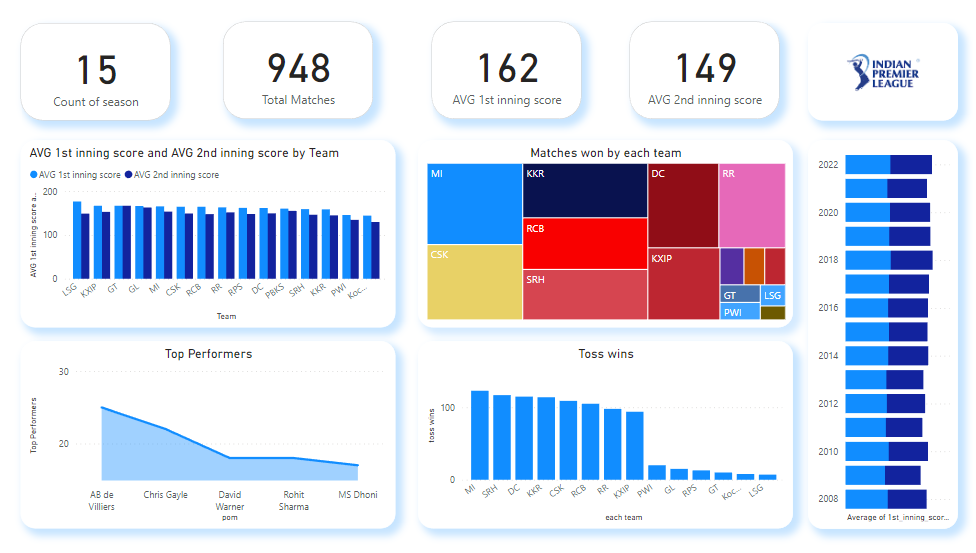

This screenshot's page, from the dashboard's own definition file:
{"tool":"powerbi","page":{"name":"Page 1","canvas":[1280,720],"ordinal":0},"visuals":[{"type":"card","fields":{"Values":["ipl_data.Measure"]},"box":[557.5,22.5,200,130],"z":0},{"type":"card","fields":{"Values":["ipl_data.id"]},"box":[280,22.5,200,130],"z":1000},{"type":"treemap","title":"Matches won by each team","fields":{"Group":["ipl_data.winner"],"Values":["ipl_data.winner"]},"box":[540,180,500,250],"z":2000},{"type":"card","fields":{"Values":["ipl_data.season"]},"box":[10,23.3,200,130],"z":3000},{"type":"clusteredColumnChart","fields":{"Y":["ipl_data.1st_inning_score","ipl_data.2nd_inning_score"],"Category":["ipl_data.home_team"]},"box":[10,180,500,250],"z":4000},{"type":"stackedAreaChart","title":"Top Performers ","fields":{"Category":["ipl_data.pom"],"Y":["ipl_data.pom"]},"box":[10,448.3,500,250],"z":6000},{"type":"clusteredColumnChart","title":"Toss wins ","fields":{"Category":["ipl_data.toss_won"],"Y":["ipl_data.toss_won"]},"box":[540,448,500,250],"z":7000},{"type":"card","fields":{"Values":["ipl_data.Measure 2"]},"box":[822.5,22.5,200,130],"z":8000},{"type":"barChart","fields":{"Category":["ipl_data.season"],"Y":["ipl_data.1st_inning_score","ipl_data.2nd_inning_score"]},"box":[1060,180,200,518.9],"z":9000},{"type":"image","box":[1060,23.3,200,130],"z":9002}]}

Visuals, with their boxes in screenshot pixels (x1, y1, x2, y2), scaled from the page's 1280x720 canvas onto the 976x553 screenshot:
card - ipl_data.Measure: Rect(425, 17, 578, 117)
card - ipl_data.id: Rect(214, 17, 366, 117)
"Matches won by each team" treemap: Rect(412, 138, 793, 330)
card - ipl_data.season: Rect(8, 18, 160, 118)
clusteredColumnChart - ipl_data.1st_inning_score x ipl_data.2nd_inning_score: Rect(8, 138, 389, 330)
"Top Performers " stackedAreaChart: Rect(8, 344, 389, 536)
"Toss wins " clusteredColumnChart: Rect(412, 344, 793, 536)
card - ipl_data.Measure 2: Rect(627, 17, 780, 117)
barChart - ipl_data.season x ipl_data.1st_inning_score: Rect(808, 138, 961, 537)
image: Rect(808, 18, 961, 118)
